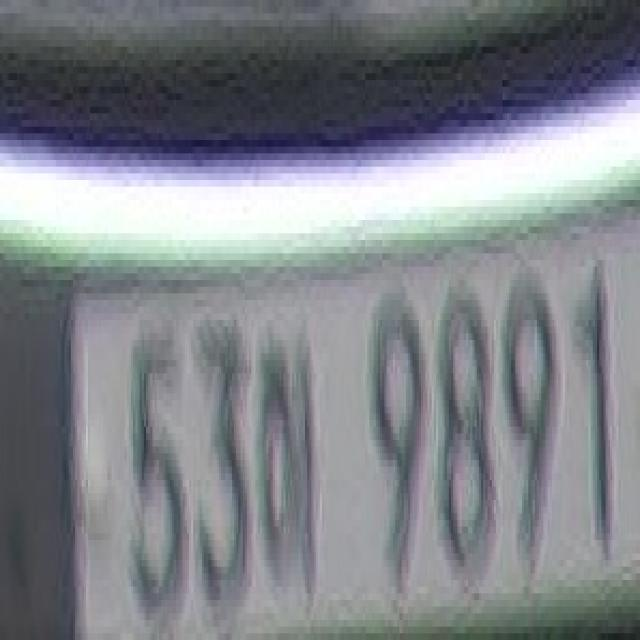1: (558, 260, 618, 593)
3: (191, 286, 247, 640)
5: (122, 320, 194, 640)
8: (440, 273, 500, 587)
9: (367, 280, 432, 620), (504, 267, 562, 573)
heo: (253, 280, 333, 640)
license_plate: (62, 240, 640, 620)
